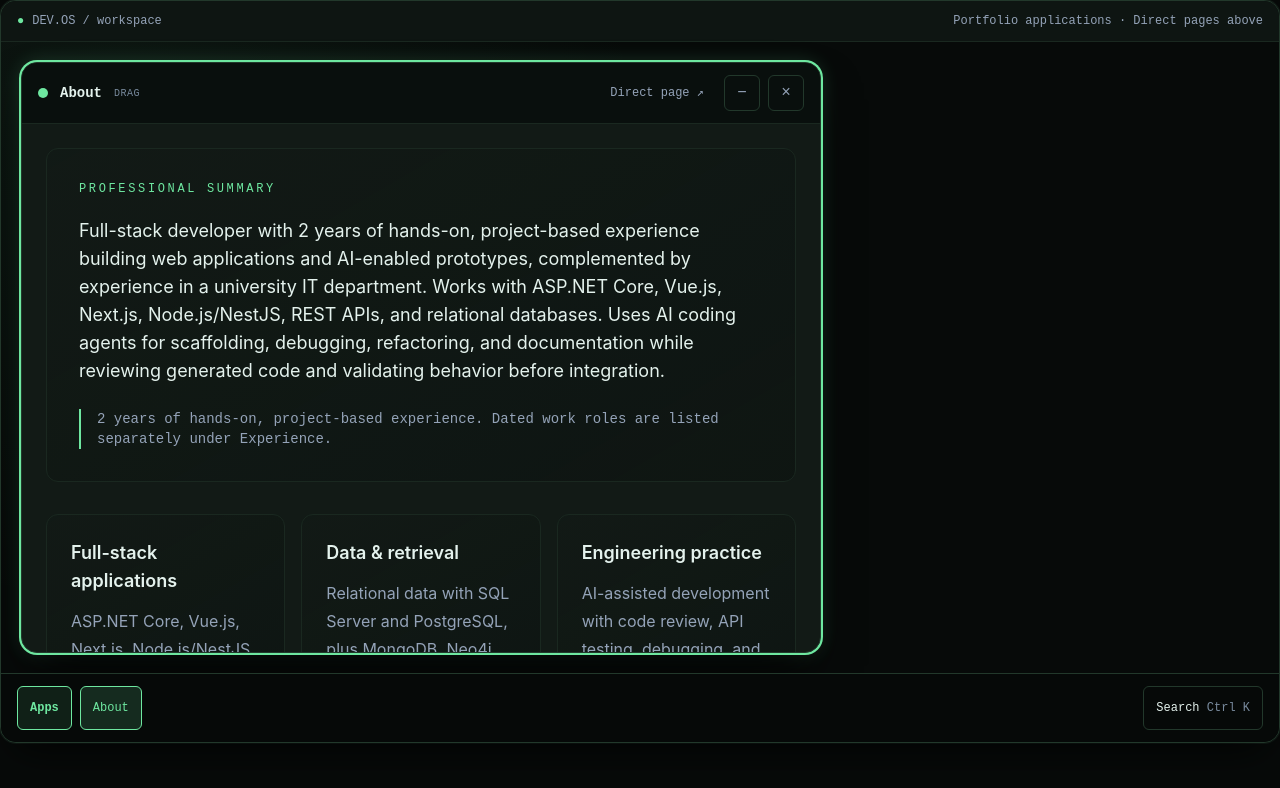
Test case: DEV.OS workspace interactions › opens an app from the keyboard-accessible launcher and restores a minimized window
Click the button "Apps" at (44, 708), box [17,686,72,730]
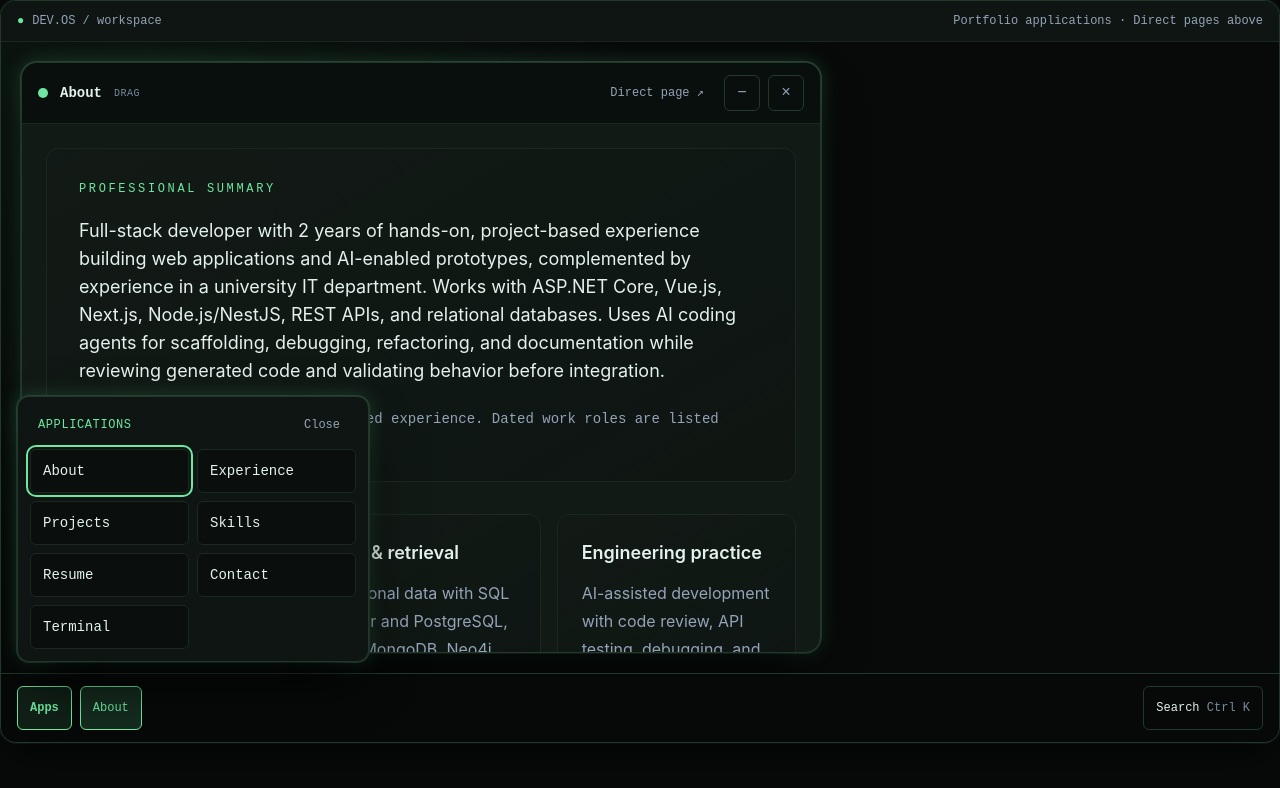
Press Escape
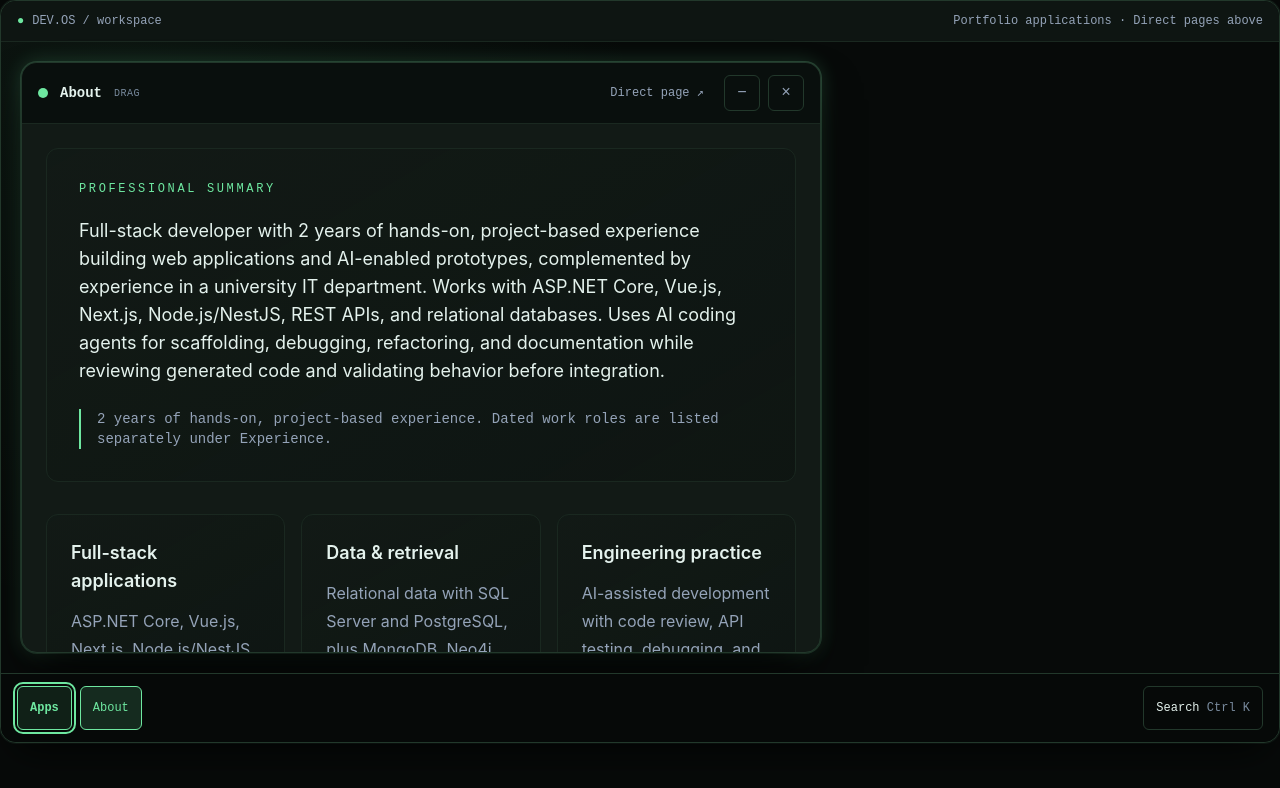
Click the button "Apps" at (44, 708), box [17,686,72,730]
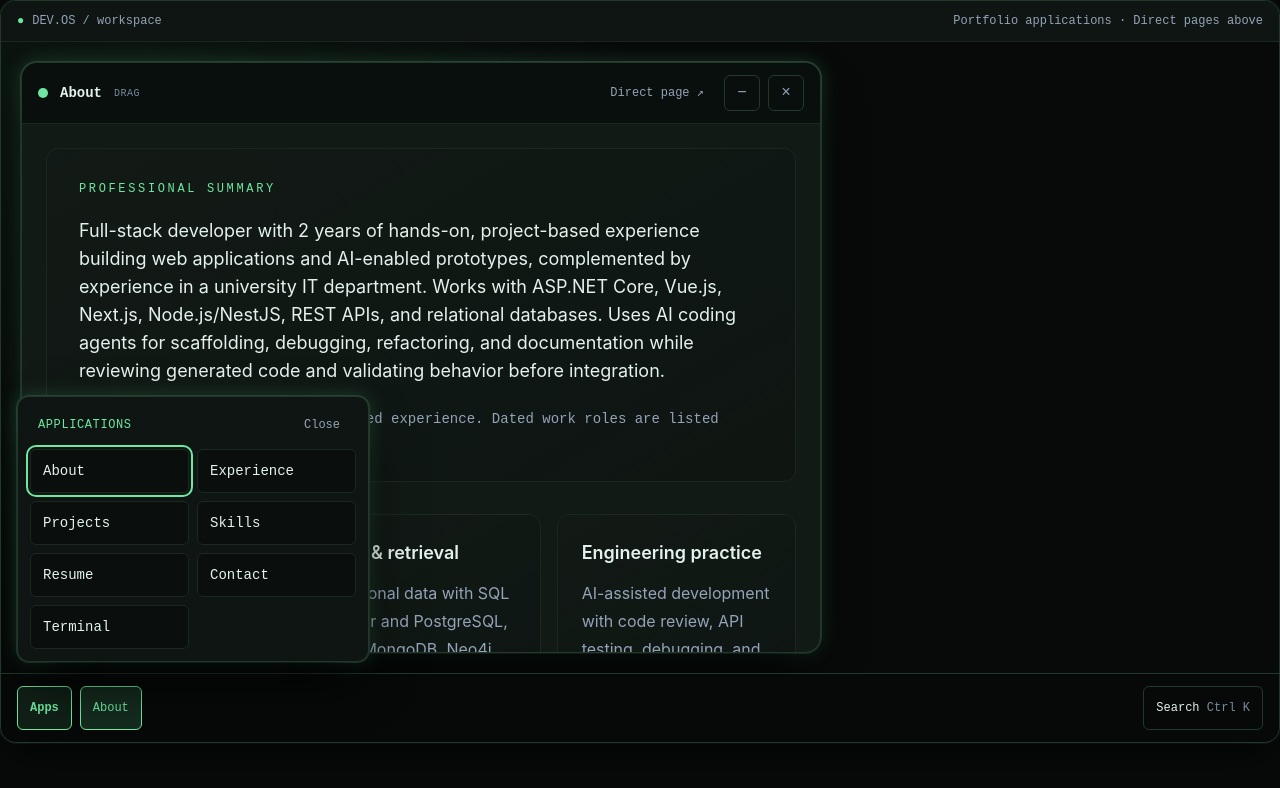
Click the button "Contact" at (276, 575), box [197,553,356,597]
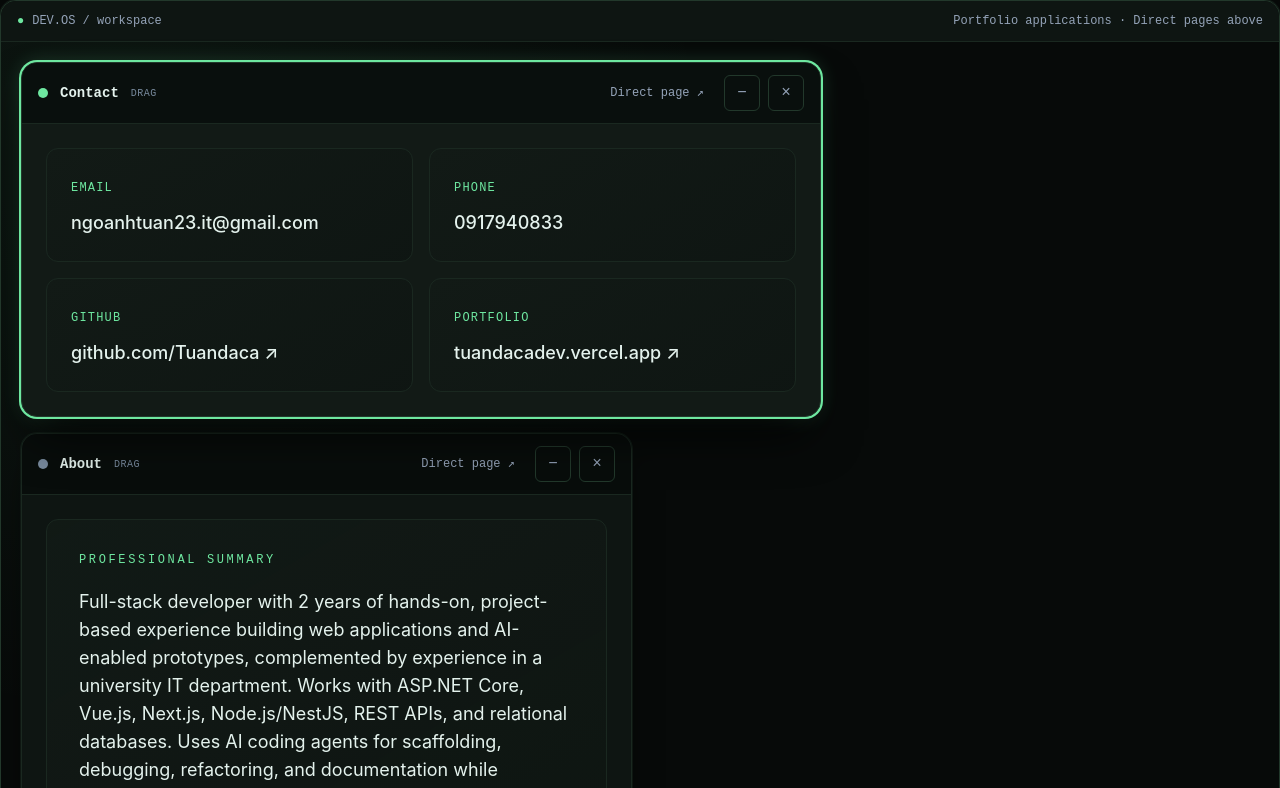
Now the element "Contact" is shown, box [21,62,821,417]
Click the button named "Minimize Contact" at (742, 93), box [724,75,760,111]
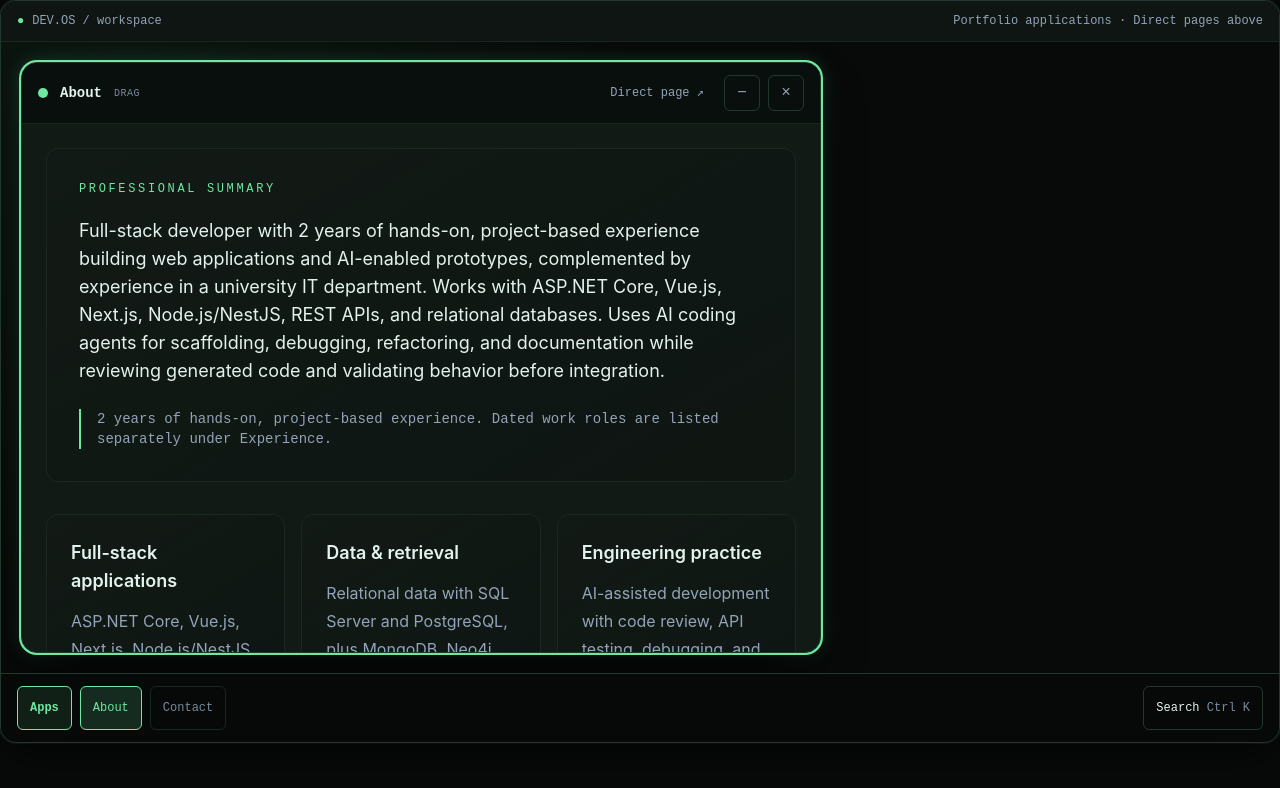
Click the button with aria-label "Contact, minimized" at (188, 708), box [150,686,226,730]
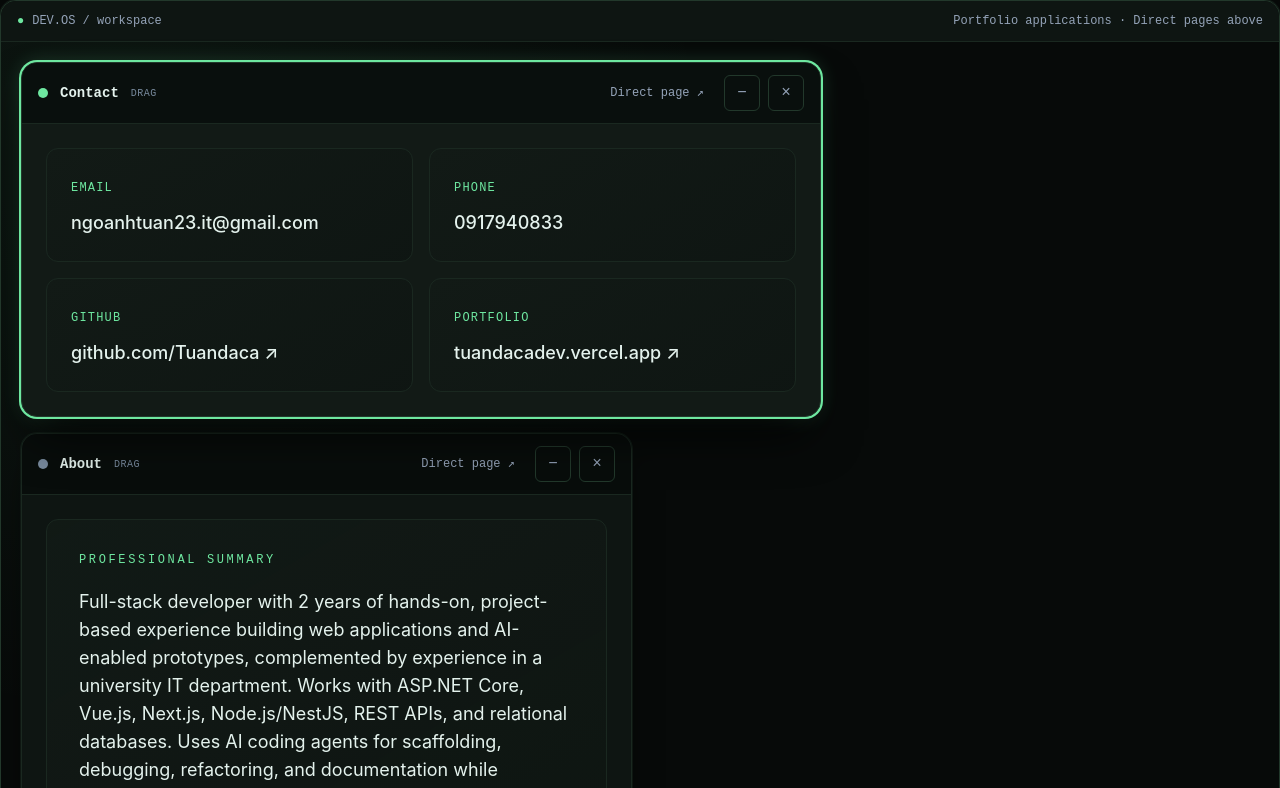
Now the element "Contact" is shown, box [21,62,821,417]
